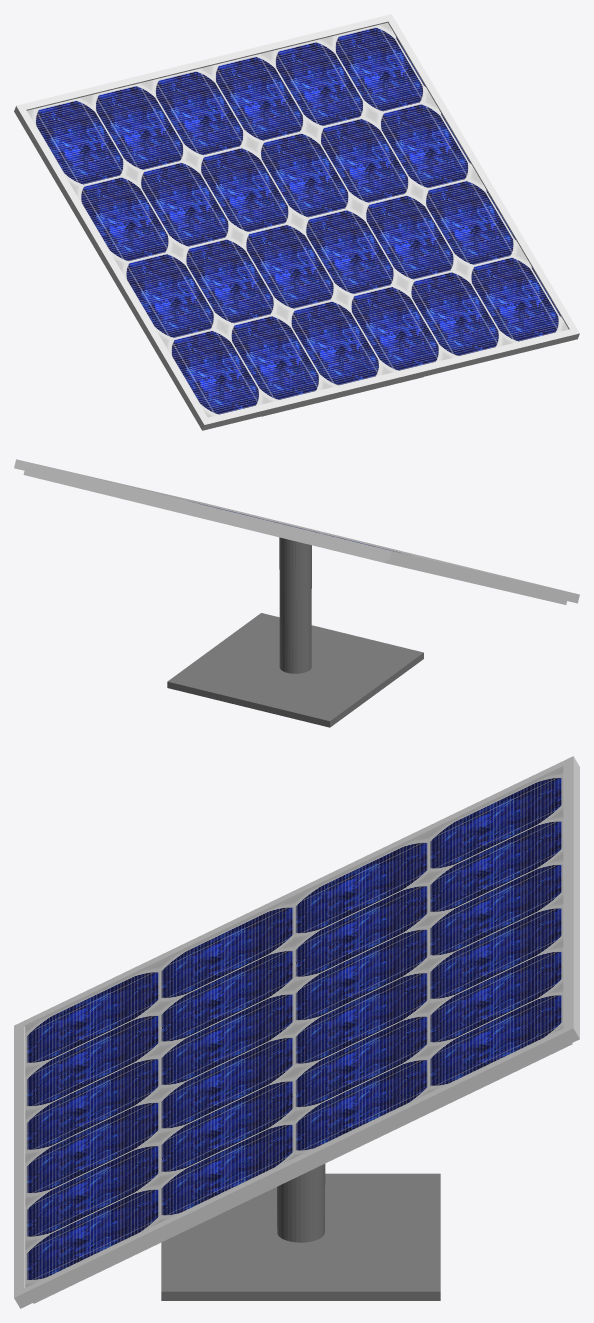
File: solar_panel_asset.fbx
3 views of the same model, one above another, from view 1: azimuth 30°, elevation 25°; view 2: azimuth 150°, elevation 25°; view 3: azimuth 270°, elevation 25° (orthographic). The views are drawn at different scales.
Visible parts, largest first — view 1: painel_base_celula; view 2: 立方体, painel_base_celula, 柱体; view 3: painel_base_celula, 立方体, 柱体.
Part boxes in pixels (bbox=[...]): painel_base_celula: bbox=[14, 14, 579, 430]; 立方体: bbox=[167, 613, 423, 727]; painel_base_celula: bbox=[14, 459, 579, 604]; 柱体: bbox=[279, 537, 311, 673]; painel_base_celula: bbox=[14, 756, 579, 1308]; 立方体: bbox=[161, 1173, 440, 1300]; 柱体: bbox=[277, 1164, 325, 1242].
Size of the model in its own units: 184 by 110 by 161.
Materials: 3 (1 with a texture image).
